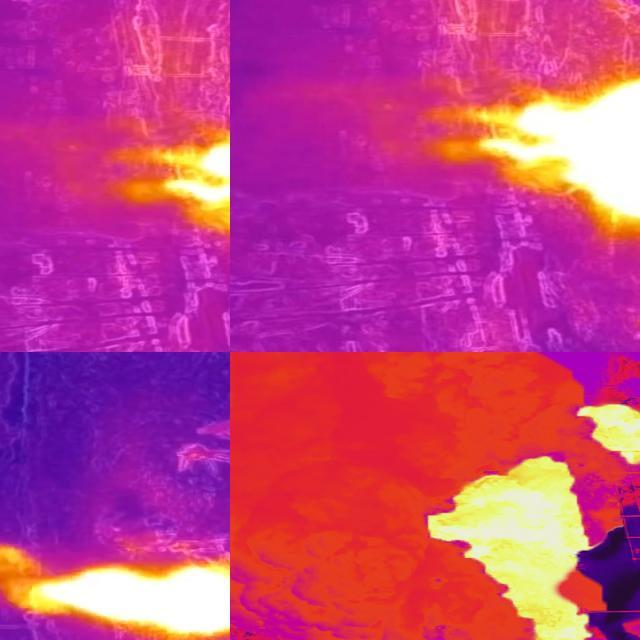fire: (383, 441, 618, 640), (483, 79, 640, 223), (14, 564, 231, 639), (547, 380, 640, 484), (167, 119, 231, 263)
